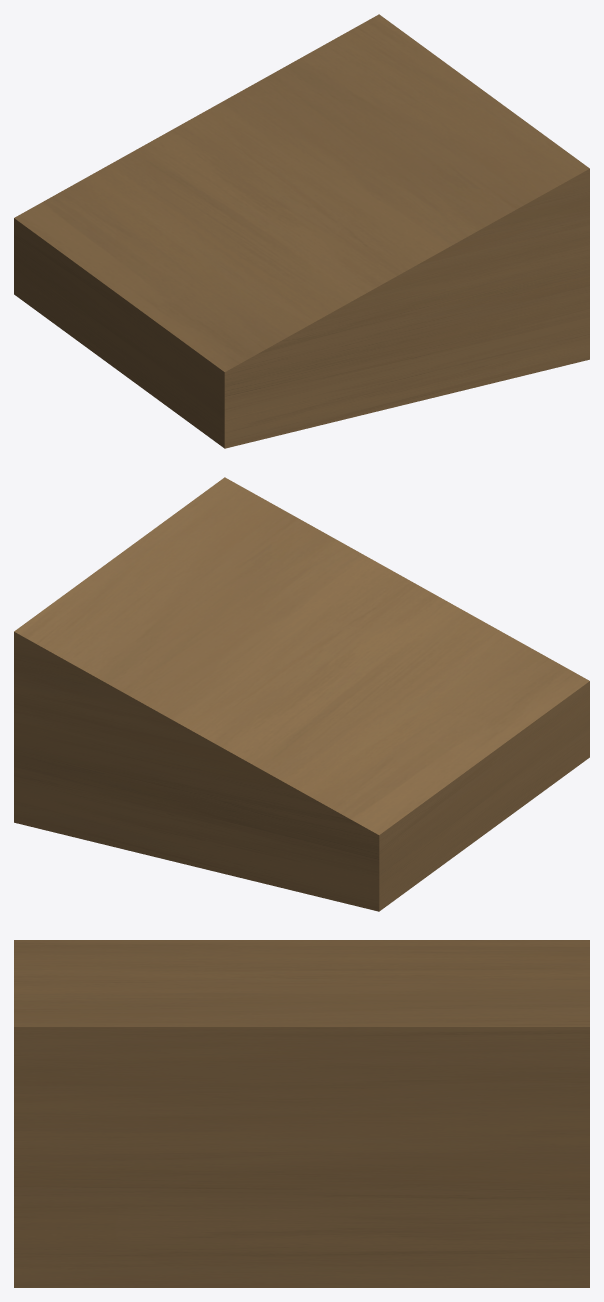
File: 5x5x3Ramp.glb
3 renders of one model, top to bottom at view 1: azimuth 30°, elevation 25°; view 2: azimuth 150°, elevation 25°; view 3: azimuth 270°, elevation 25°, orthographic. The views are drawn at different scales.
Visible parts, largest first — view 1: 5x5x3ramp; view 2: 5x5x3ramp; view 3: 5x5x3ramp.
Part boxes in pixels (x1,y1,x2,y2): 5x5x3ramp: [14, 14, 589, 448]; 5x5x3ramp: [14, 477, 589, 911]; 5x5x3ramp: [14, 940, 589, 1287].
Bounding box in the file's own units: 10 × 5 × 10.
1 material, 1 textured.
